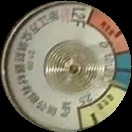green: (112, 53, 132, 92)
needle: (107, 79, 129, 90)
red: (89, 10, 130, 54)
yellow: (80, 85, 127, 132)
